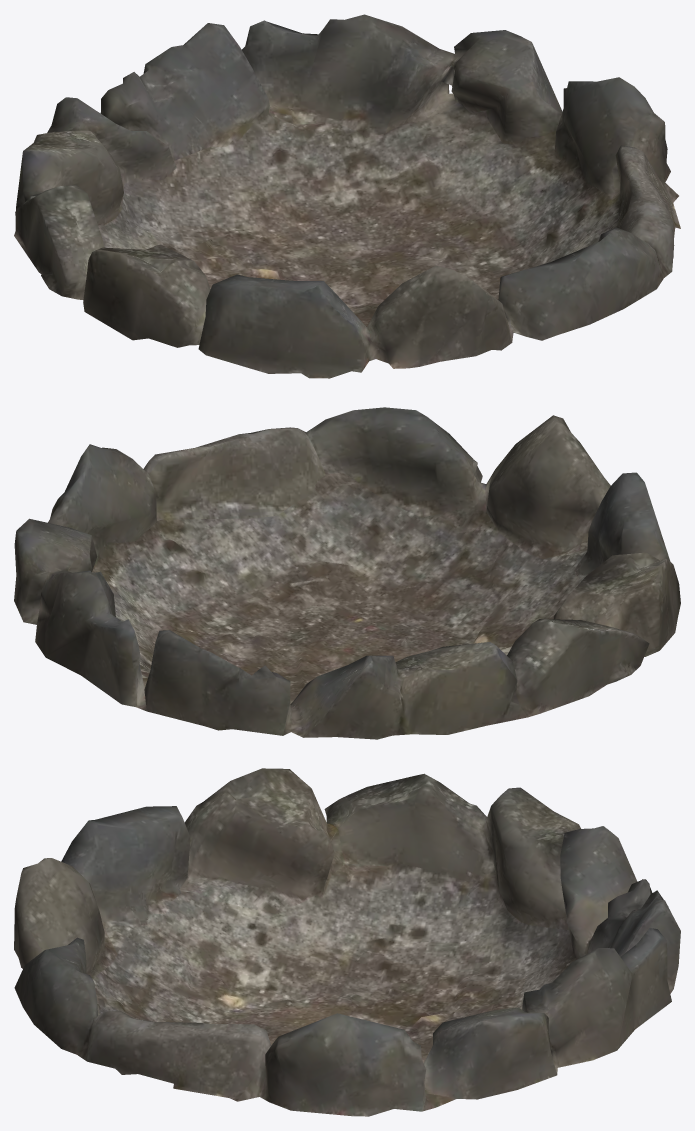
Rendered from stone_fire_pit.glb.
The picture shows the model from 3 angles, top to bottom: view 1: azimuth 30°, elevation 25°; view 2: azimuth 150°, elevation 25°; view 3: azimuth 270°, elevation 25°; orthographic projection.
Parts seen in each view (by area): view 1: stone_fire_pit; view 2: stone_fire_pit; view 3: stone_fire_pit.
Part boxes in pixels (x1=…): stone_fire_pit: x1=14, y1=14, x2=680, y2=378; stone_fire_pit: x1=14, y1=407, x2=680, y2=739; stone_fire_pit: x1=14, y1=768, x2=680, y2=1116.
Bounding box in the file's own units: 1.45 × 0.3884 × 1.43.
Materials: 1 (1 with a texture image).
